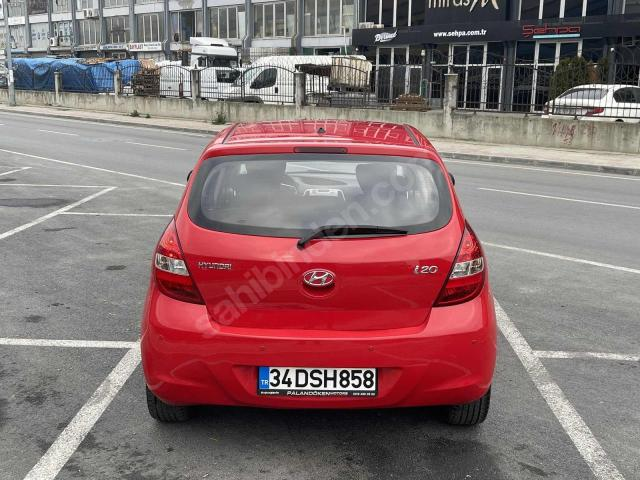plaka: (258, 366, 378, 396)
